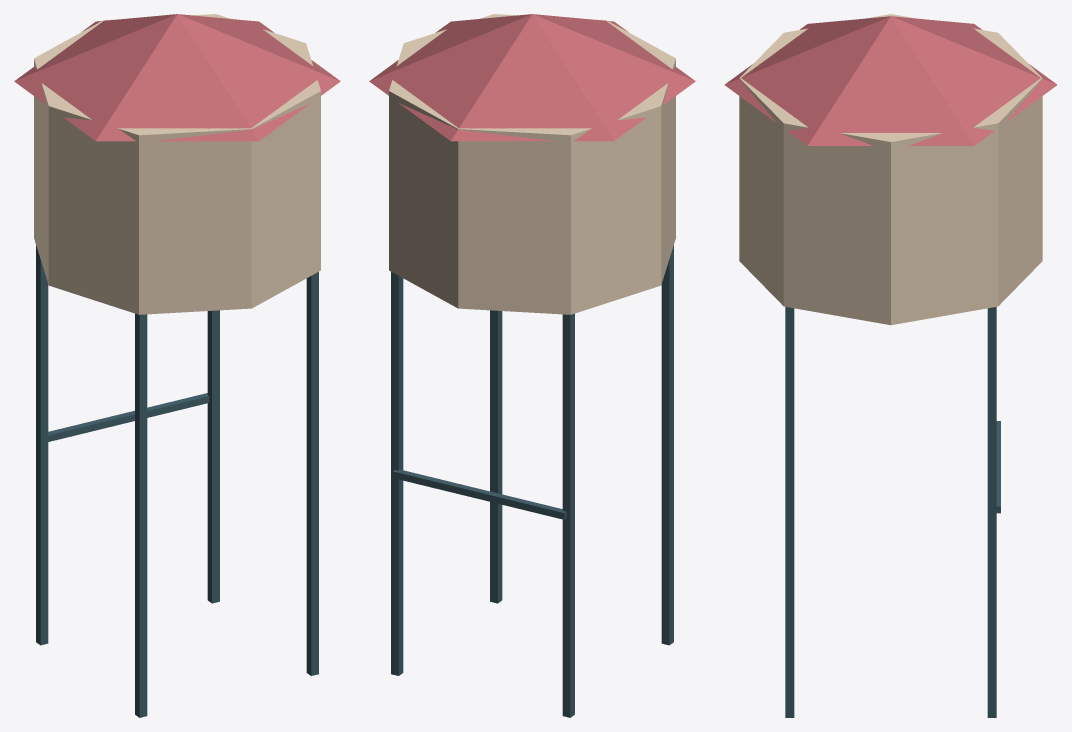
File: waterTower.obj
3 renders of one model, left to right at view 1: azimuth 30°, elevation 25°; view 2: azimuth 150°, elevation 25°; view 3: azimuth 270°, elevation 25°, orthographic. The views are drawn at different scales.
Parts seen in each view (by area): view 1: waterTower; view 2: waterTower; view 3: waterTower.
Part boxes in pixels (bbox=[...]): waterTower: bbox=[14, 14, 340, 717]; waterTower: bbox=[369, 14, 695, 717]; waterTower: bbox=[724, 14, 1057, 717].
Bounding box in the file's own units: 6 × 14.35 × 6.6.
